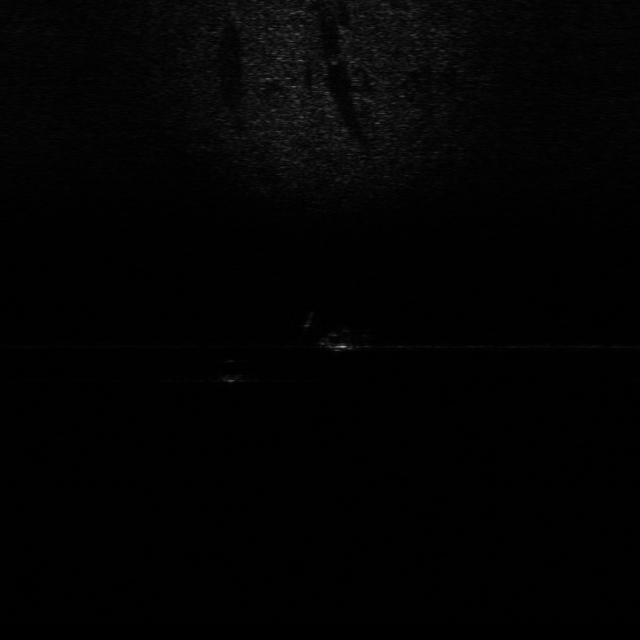ball: (218, 355, 252, 383)
human body: (303, 309, 388, 355)
